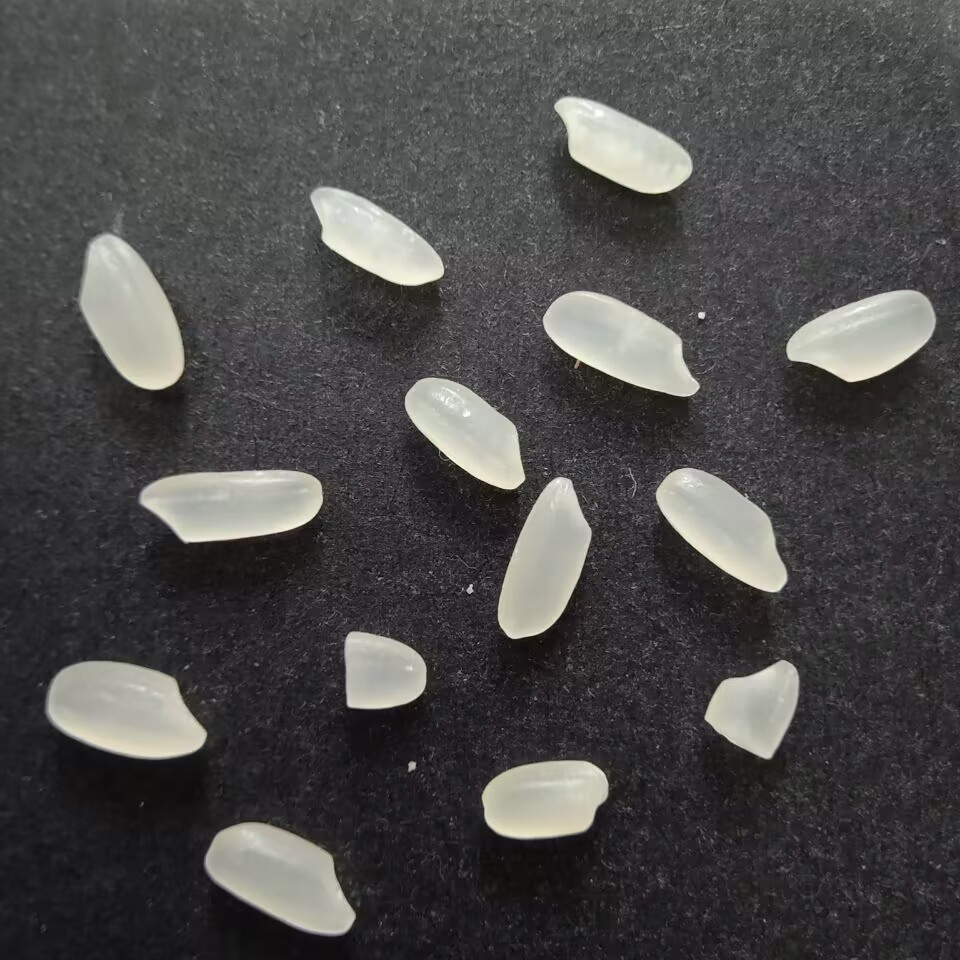broken: (700, 654, 802, 762), (337, 628, 431, 715)
rice: (203, 818, 356, 942), (73, 232, 187, 395), (539, 289, 702, 402), (42, 657, 212, 762), (492, 473, 597, 642), (655, 466, 790, 596), (134, 462, 326, 551), (783, 285, 938, 384), (305, 186, 448, 293), (551, 95, 697, 198), (399, 375, 529, 490), (478, 757, 610, 841)
